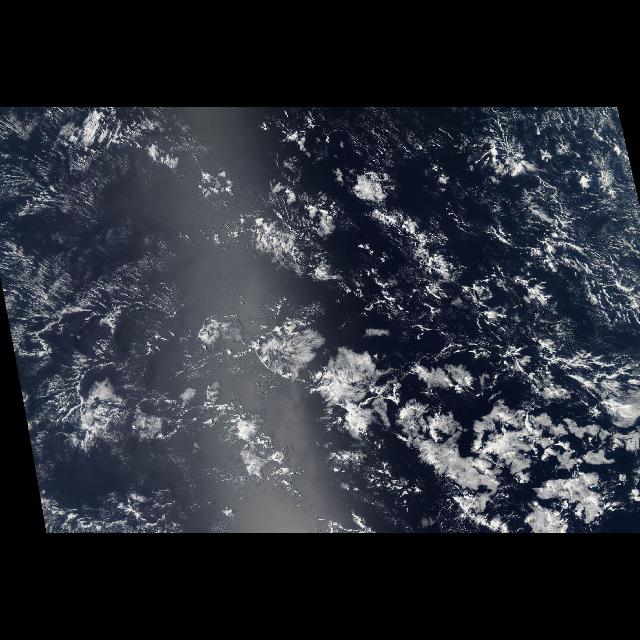Flower: (246, 302, 554, 502)
Sugar: (1, 114, 177, 348)
